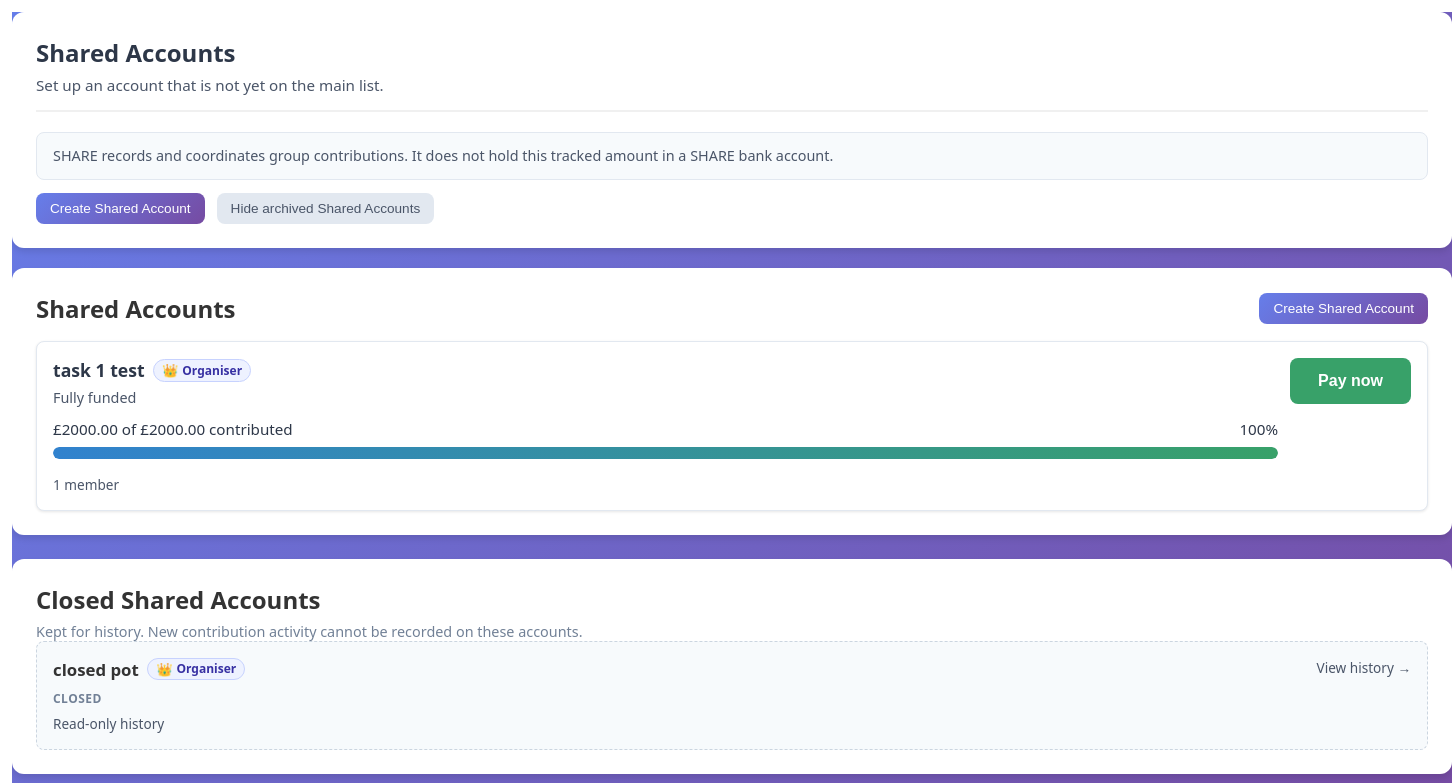
SharedAccounts list Pay now › opens archived Trip Money from the archived=1 list view
The width and height of the screenshot is (1452, 783).
Expected: the text "Closed" is shown, [53,690,102,707]
Expected: the heading "task 1 test" is shown, [53,358,144,382]
Click the heading "closed pot". click: coordinates (96, 669)
box: [53,658,139,681]
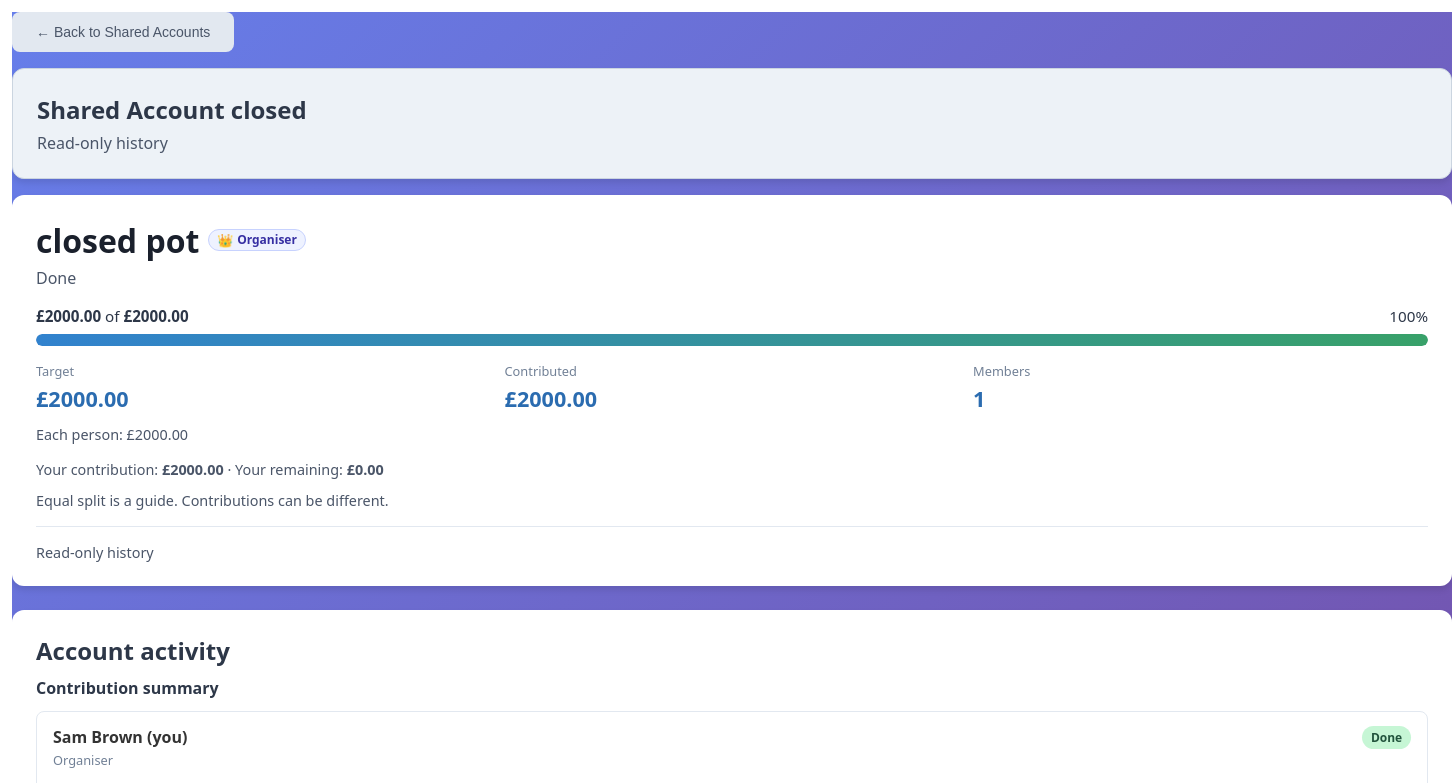
Now the heading "Shared Account closed" is shown, box [37,93,307,126]
Now the text "Read-only history" below "Shared Account closed" is shown, box [37,132,168,154]
